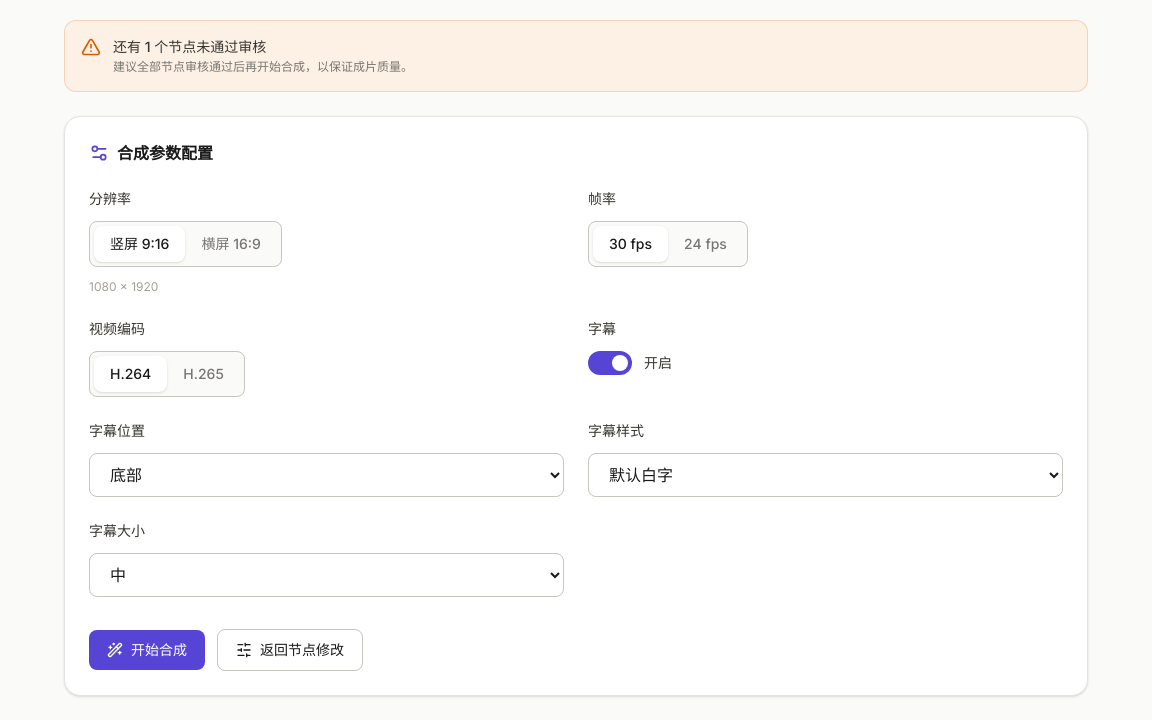
CompositePage › should start composite and show progress
The image size is (1152, 720).
(page scrolled)
Click the button "开始合成" at {"x": 147, "y": 650}, box [89, 630, 205, 670]
(page scrolled)
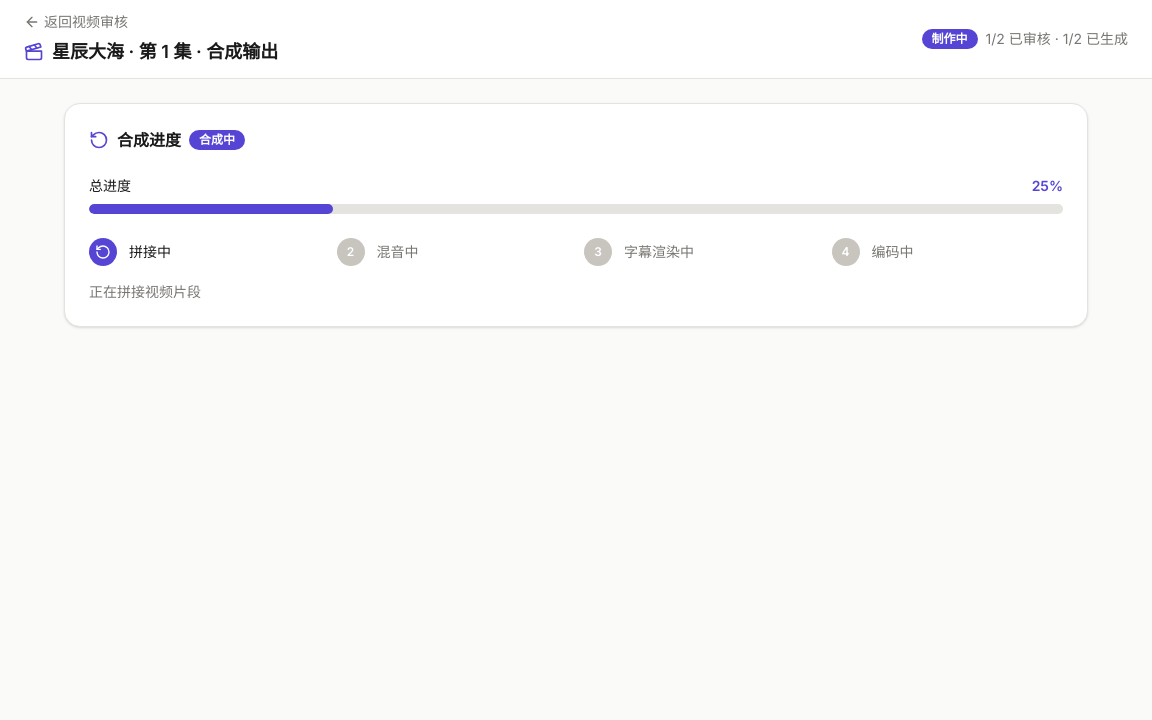
Expected: the heading "合成进度" is shown, [117, 128, 181, 152]
